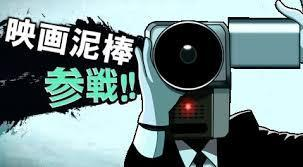no more kid: (141, 19, 303, 140)
